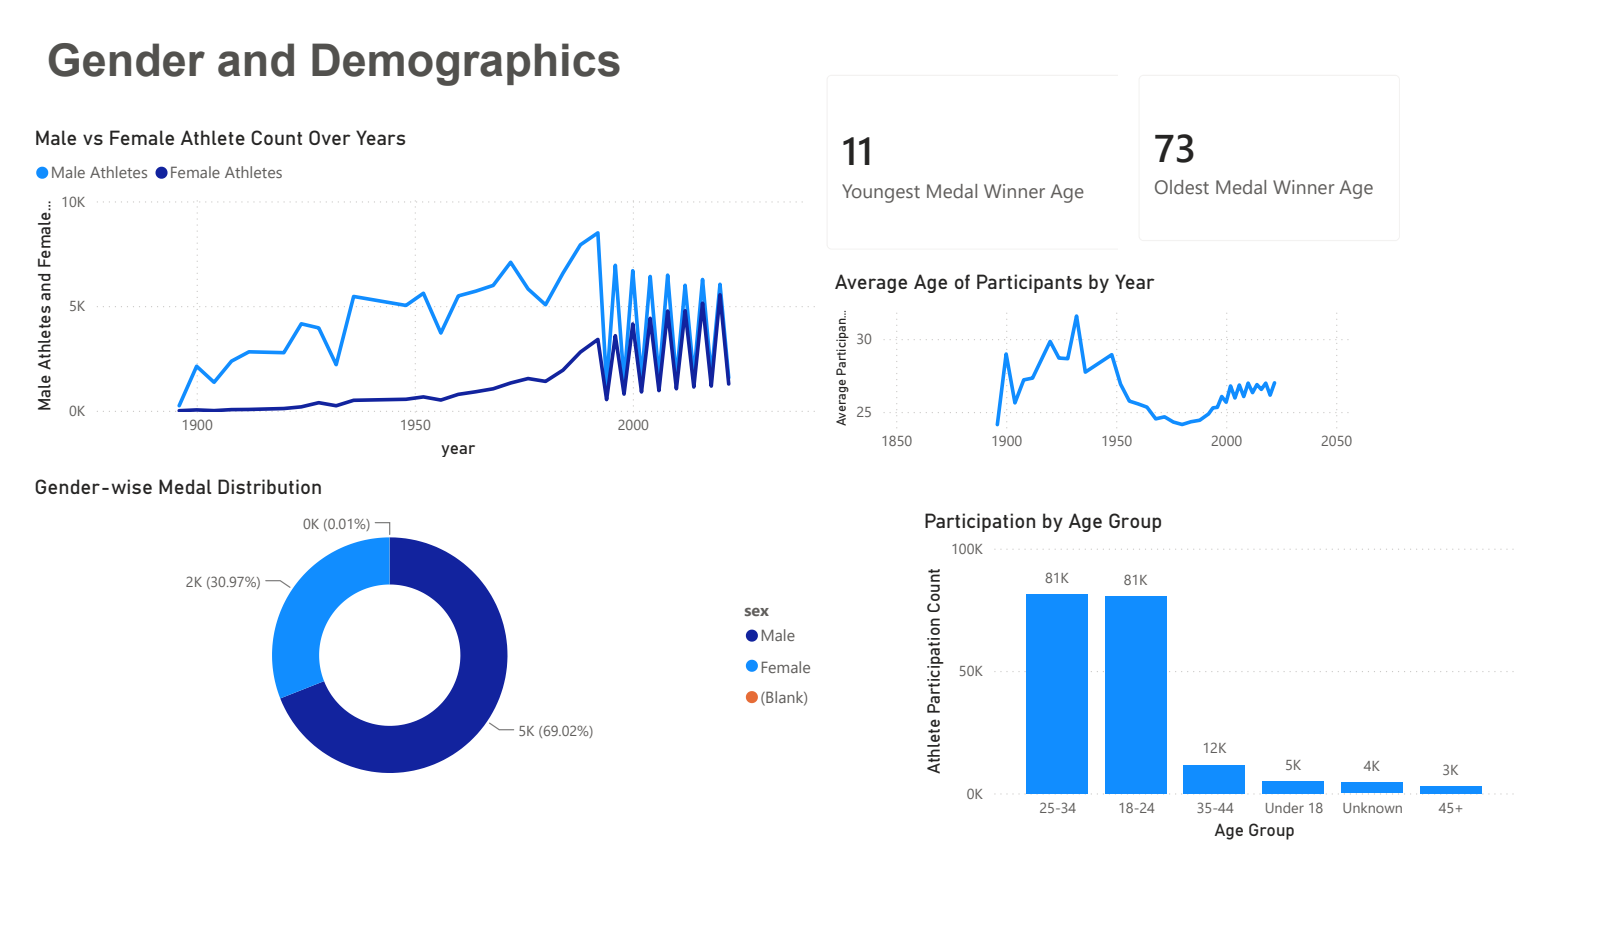

The page's visual inventory and layout, read from the dashboard file:
{"tool":"powerbi","page":{"name":"Gender and Demographics","canvas":[1280,720],"ordinal":5},"visuals":[{"type":"textbox","box":[9.6,0,525.6,279.9],"z":0},{"type":"lineChart","title":"Male vs Female Athlete Count Over Years","fields":{"Category":["games.year"],"Y":["olympic_athlete_event_result.Male Athletes","olympic_athlete_event_result.Female Athletes"]},"box":[0,79.6,664.2,279.9],"z":1},{"type":"donutChart","title":"Gender-wise Medal Distribution","fields":{"Category":["olympic_athlete_bio.sex"],"Y":["olympic_athlete_event_result.Medals By Sport"]},"box":[0,370,664,280],"z":2},{"type":"cardVisual","fields":{"Data":["olympic_athlete_event_result.Youngest Medal Winner Age"]},"box":[644.9,20.6,279.9,179.8],"z":3},{"type":"cardVisual","fields":{"Data":["olympic_athlete_event_result.Oldest Medal Winner Age"]},"box":[904.3,20.6,251.1,172.9],"z":4},{"type":"lineChart","title":"Average Age of Participants by Year","fields":{"Category":["games.year"],"Y":["olympic_athlete_event_result.Average Participant Age"]},"box":[664.2,200.3,439.1,159.2],"z":5},{"type":"clusteredColumnChart","title":"Participation by Age Group","fields":{"Category":["olympic_athlete_event_result.Age Group"],"Y":["olympic_athlete_event_result.Athlete Participation Count"]},"box":[738.3,397.9,499.5,279.9],"z":6}]}

Visuals, with their boxes in screenshot pixels (x1, y1, x2, y2), scaled from the page's 1280x720 canvas onto the 1600x926 screenshot:
textbox: Rect(12, 0, 669, 360)
"Male vs Female Athlete Count Over Years" lineChart: Rect(0, 102, 830, 462)
"Gender-wise Medal Distribution" donutChart: Rect(0, 476, 830, 836)
cardVisual - olympic_athlete_event_result.Youngest Medal Winner Age: Rect(806, 26, 1156, 258)
cardVisual - olympic_athlete_event_result.Oldest Medal Winner Age: Rect(1130, 26, 1444, 249)
"Average Age of Participants by Year" lineChart: Rect(830, 258, 1379, 462)
"Participation by Age Group" clusteredColumnChart: Rect(923, 512, 1547, 872)
